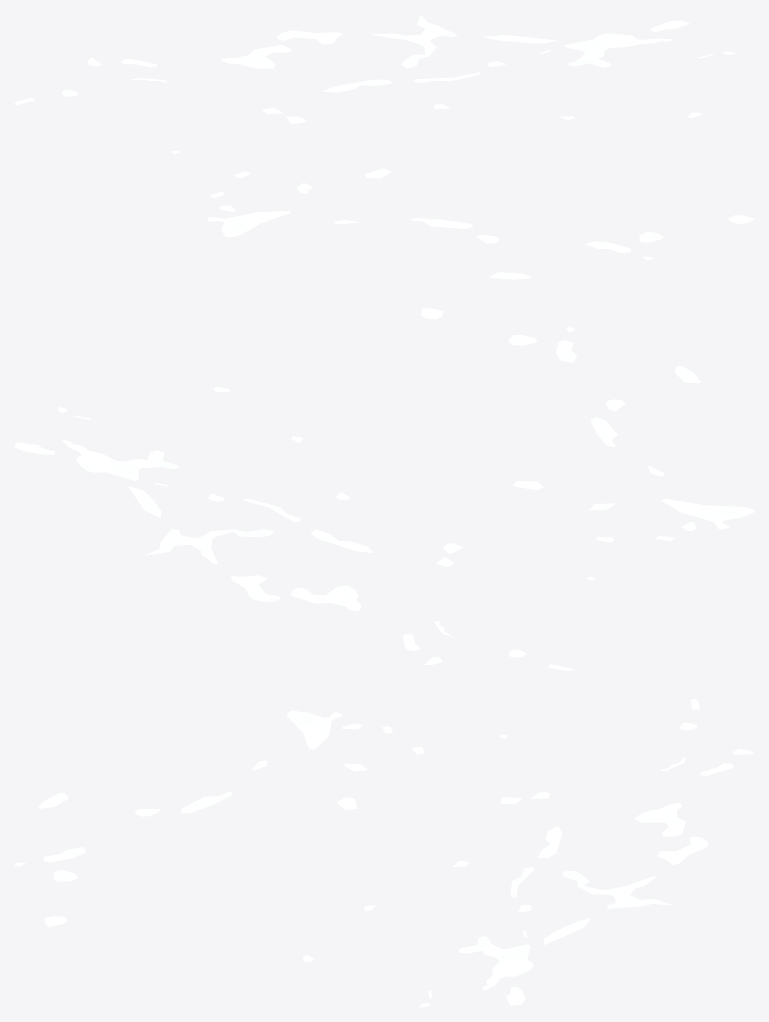
Rendered from Foam_Generated_Eddies.glb.
3 renders of one model, top to bottom at view 1: azimuth 30°, elevation 25°; view 2: azimuth 150°, elevation 25°; view 3: azimuth 270°, elevation 25°, orthographic. The views are drawn at different scales.
Parts seen in each view (by area): view 1: Foam_Generated_Eddies; view 2: Foam_Generated_Eddies; view 3: Foam_Generated_Eddies.
Boxes of the visible parts, <box> form: Foam_Generated_Eddies: <box>14,14,754,279</box>; Foam_Generated_Eddies: <box>14,308,754,670</box>; Foam_Generated_Eddies: <box>14,699,754,1007</box>.
Bounding box in the file's own units: 2.52 × 0 × 2.56.
Materials: 1 (1 with a texture image).
